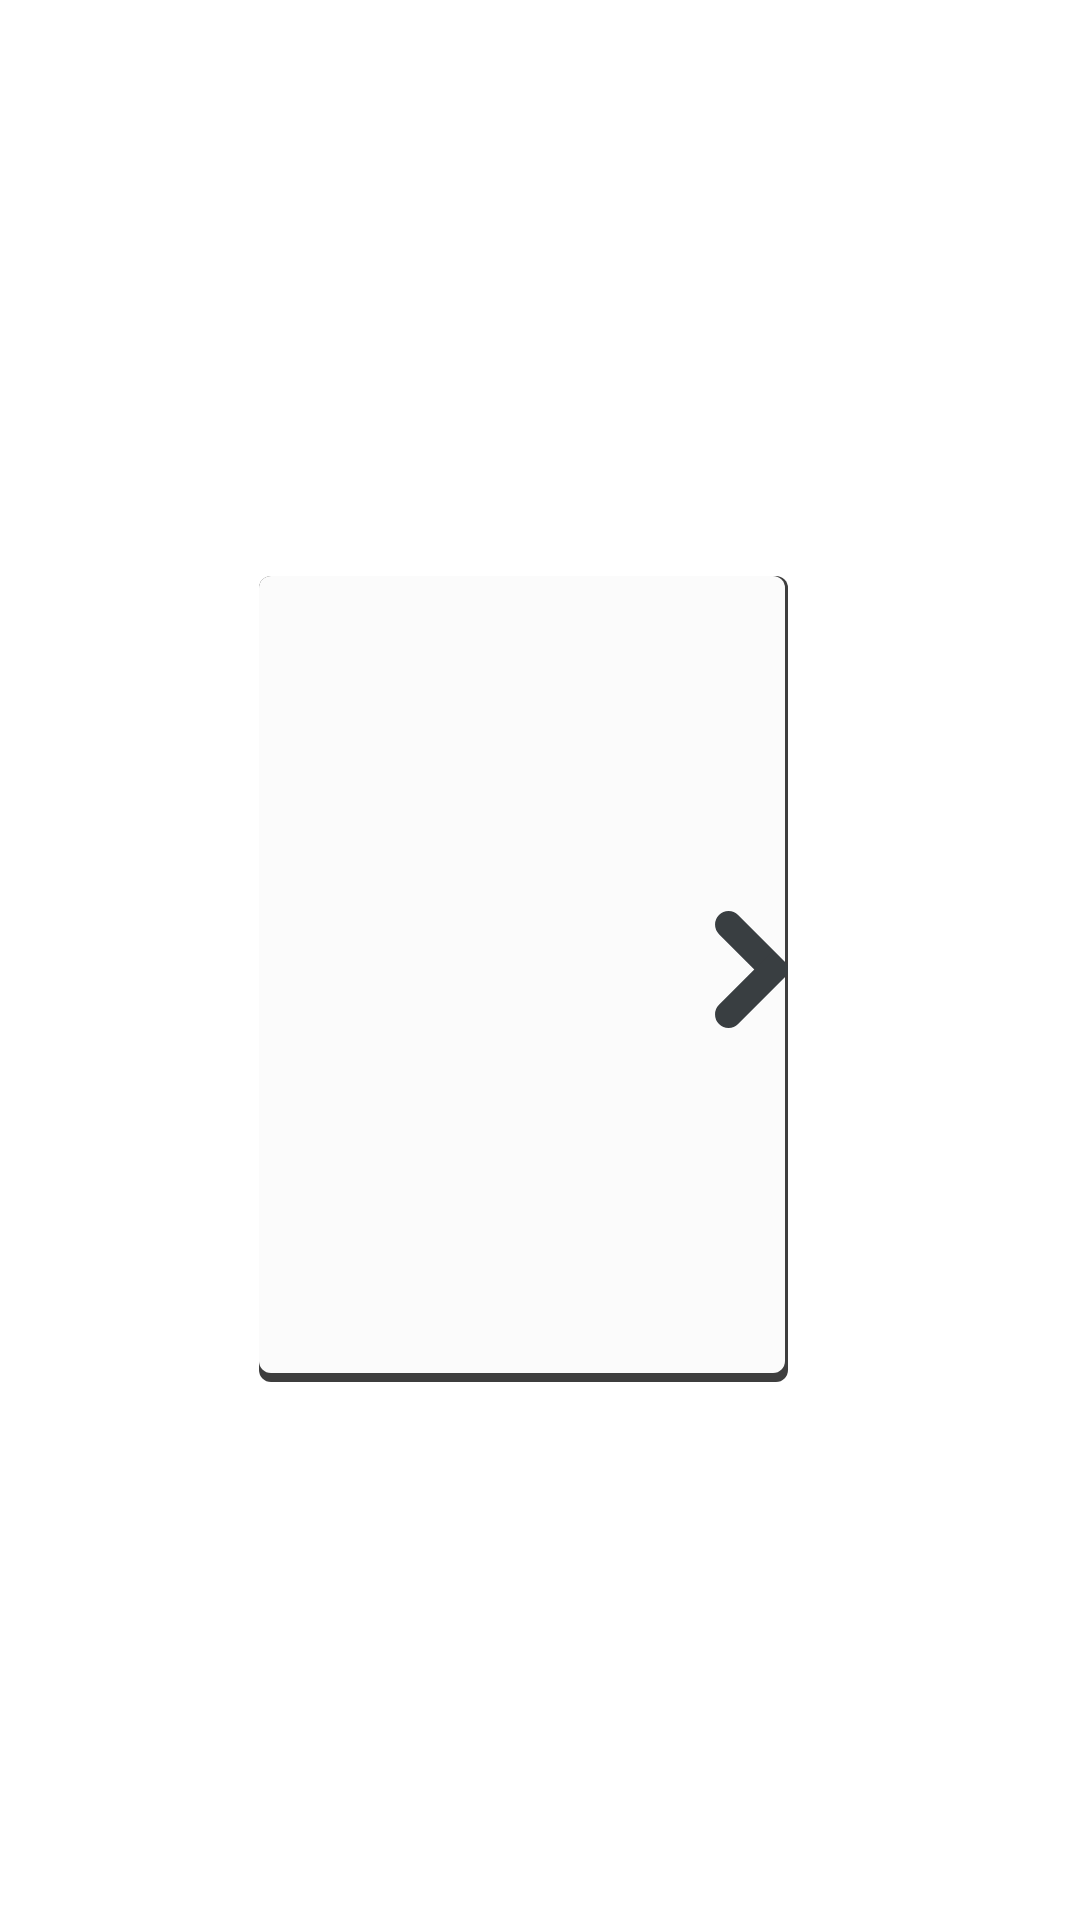

Icons on this 1080px x 1920px Android screen, each with its box as (x1, y1, x2, y2):
arrow shape: (715, 902, 788, 1037)
